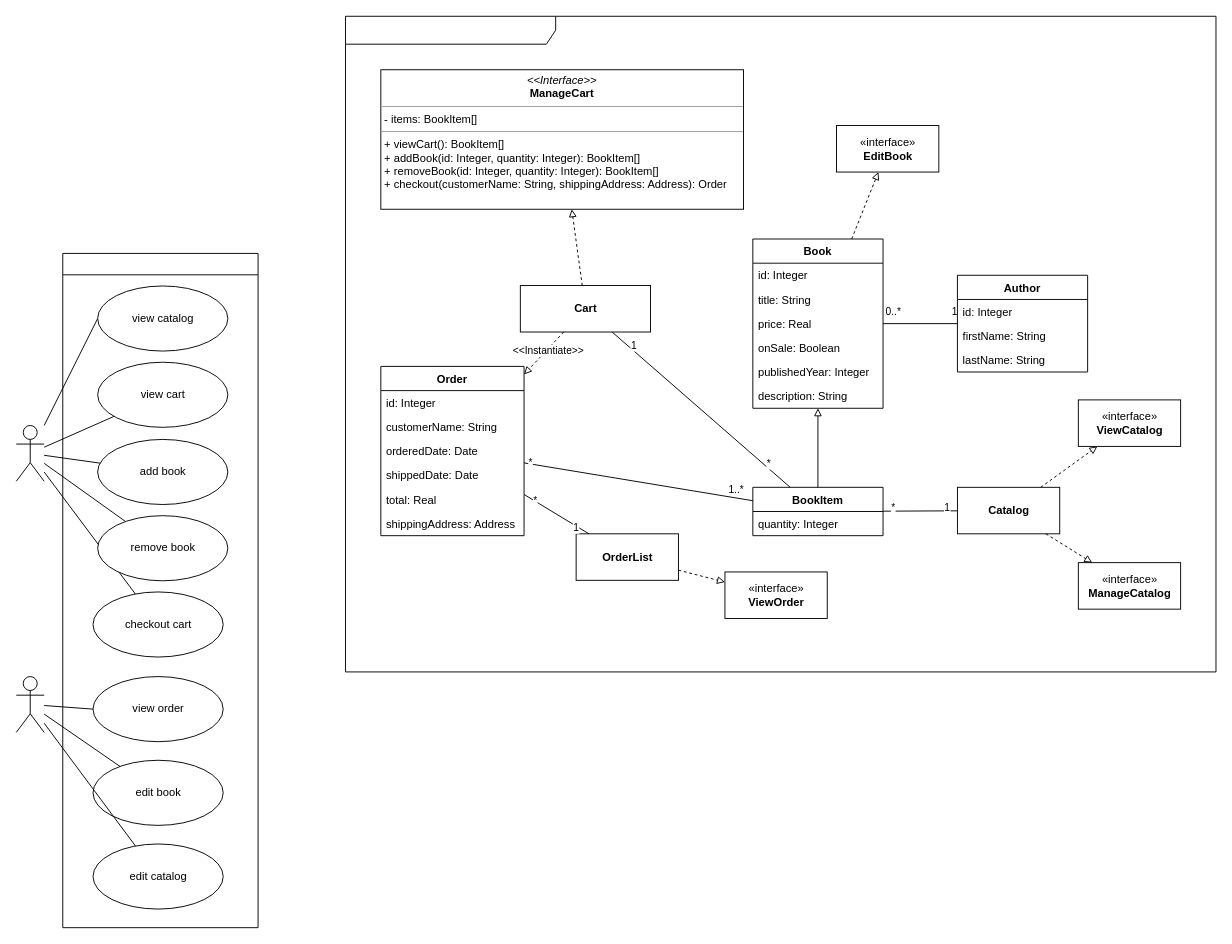
Image size: 1232x944. Some labels were removed from this diagram. The shapes that lost their labels are listed below. From the top down, each one's box as (x1, y1, x2, y2) in pixels, then its label:
(345, 15, 1216, 672): class Online Bookstore
(15, 425, 44, 481): User
(62, 252, 258, 928): Use case
(15, 676, 44, 732): Staff
